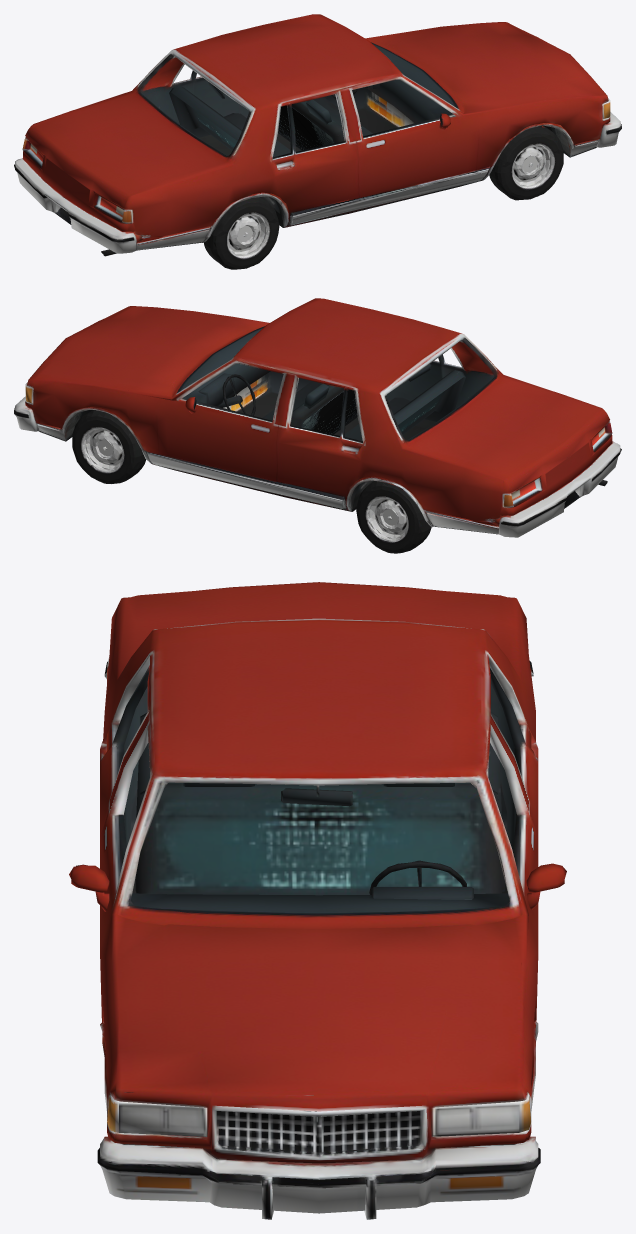
The model's file is car_90s_sedan.glb.
3 renders of one model, top to bottom at view 1: azimuth 30°, elevation 25°; view 2: azimuth 150°, elevation 25°; view 3: azimuth 270°, elevation 25°, orthographic. The views are drawn at different scales.
Parts seen in each view (by area): view 1: car_body, wheel_FR, wheel_RR; view 2: car_body, wheel_FL, wheel_RL; view 3: car_body.
Boxes of the visible parts, left/top/right/bottom form: car_body: left=14, top=14, right=621, bottom=256; wheel_FR: left=489, top=124, right=573, bottom=200; wheel_RR: left=202, top=194, right=279, bottom=269; car_body: left=14, top=298, right=621, bottom=537; wheel_FL: left=60, top=408, right=146, bottom=483; wheel_RL: left=356, top=478, right=432, bottom=553; car_body: left=69, top=582, right=566, bottom=1219.
Size of the model in its own units: 4.9 by 1.39 by 2.
1 material, 1 textured.
